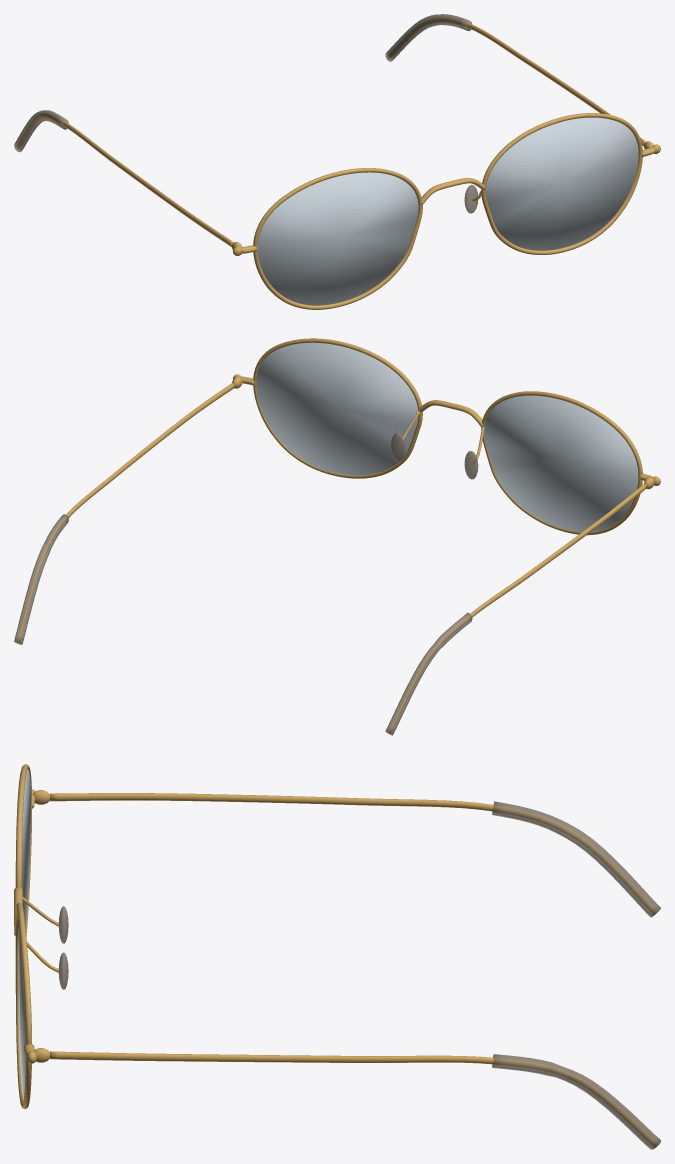
The picture shows the model from 3 angles, top to bottom: view 1: azimuth 30°, elevation 25°; view 2: azimuth 150°, elevation 25°; view 3: azimuth 270°, elevation 25°; orthographic projection. The views are drawn at different scales.
Visible parts, largest first — view 1: Lens_image_left, Rim_image_left, Temple_tip_image_left, Hinge_image_left; view 2: Lens_image_left, Rim_image_left, Temple_tip_image_left, Hinge_image_left; view 3: Rim_image_left, Temple_tip_image_left, Lens_image_left, Hinge_image_left.
Part boxes in pixels (left/top/right/bottom): Lens_image_left: left=257, top=117, right=638, bottom=305; Rim_image_left: left=17, top=17, right=660, bottom=309; Temple_tip_image_left: left=14, top=14, right=478, bottom=213; Hinge_image_left: left=232, top=141, right=653, bottom=249; Lens_image_left: left=256, top=342, right=638, bottom=531; Rim_image_left: left=16, top=338, right=660, bottom=733; Temple_tip_image_left: left=14, top=433, right=478, bottom=735; Hinge_image_left: left=232, top=376, right=654, bottom=489; Rim_image_left: left=15, top=764, right=657, bottom=1146; Temple_tip_image_left: left=58, top=801, right=660, bottom=1149; Lens_image_left: left=18, top=769, right=30, bottom=1099; Hinge_image_left: left=14, top=790, right=59, bottom=1062.
Size of the model in its own units: 0.14 by 0.0445 by 0.1431.
